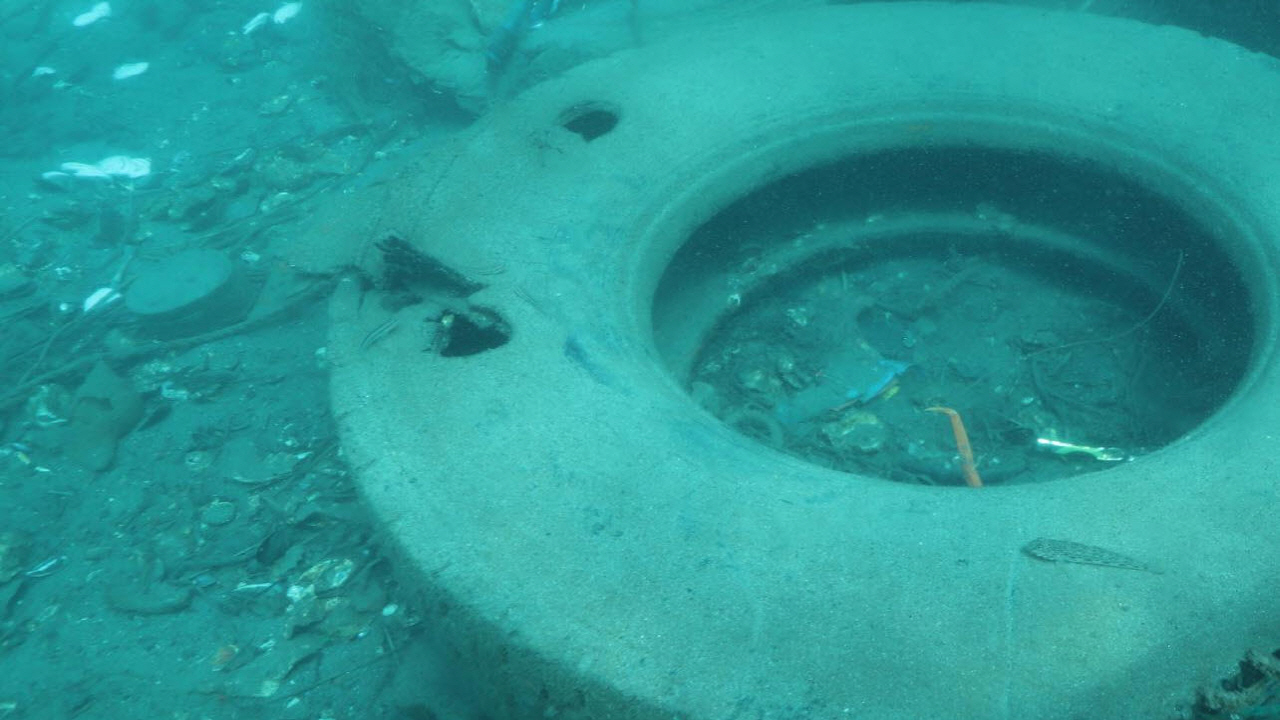tire: (328, 0, 1280, 720)
